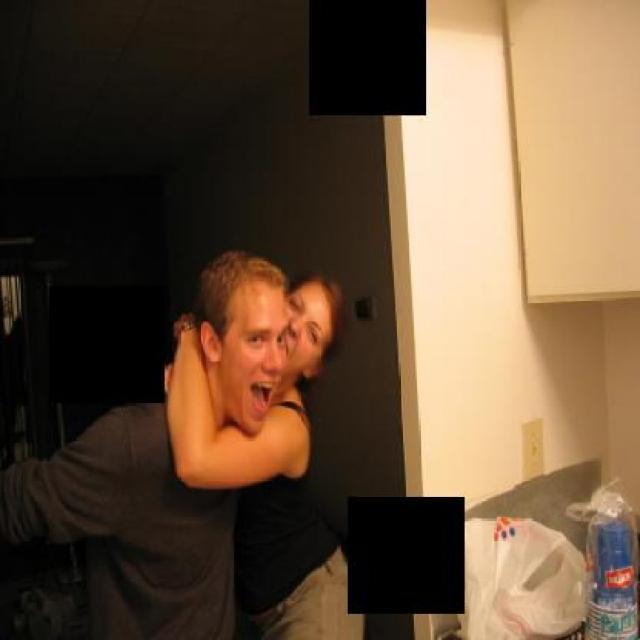plastic bag: (445, 516, 589, 638)
